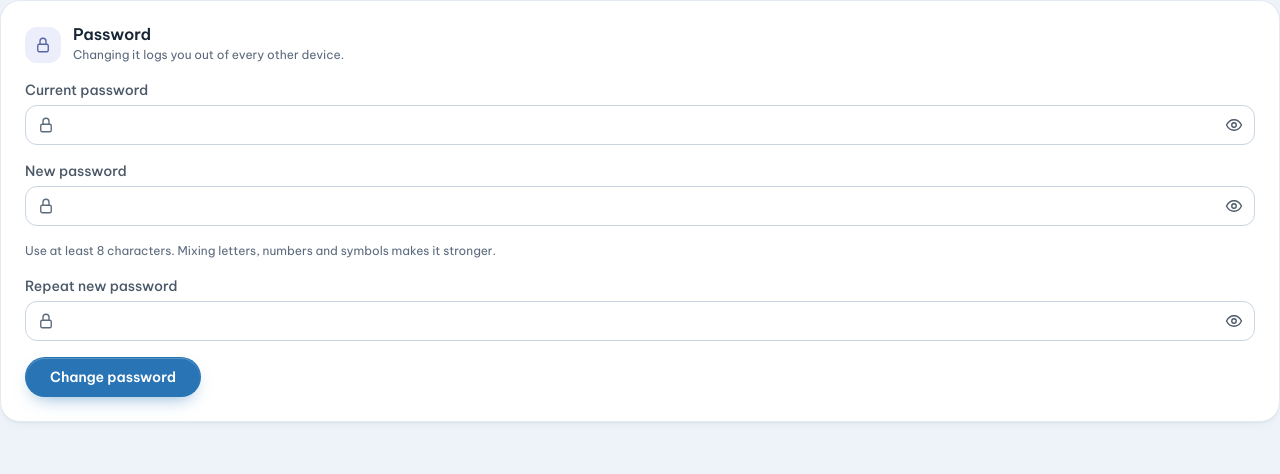
it: PasswordSection › shows the strength of the new password as it is typed
The image size is (1280, 474).
Type "abc" into the password field labelled "New password" at (640, 206), box [25,186,1255,226]
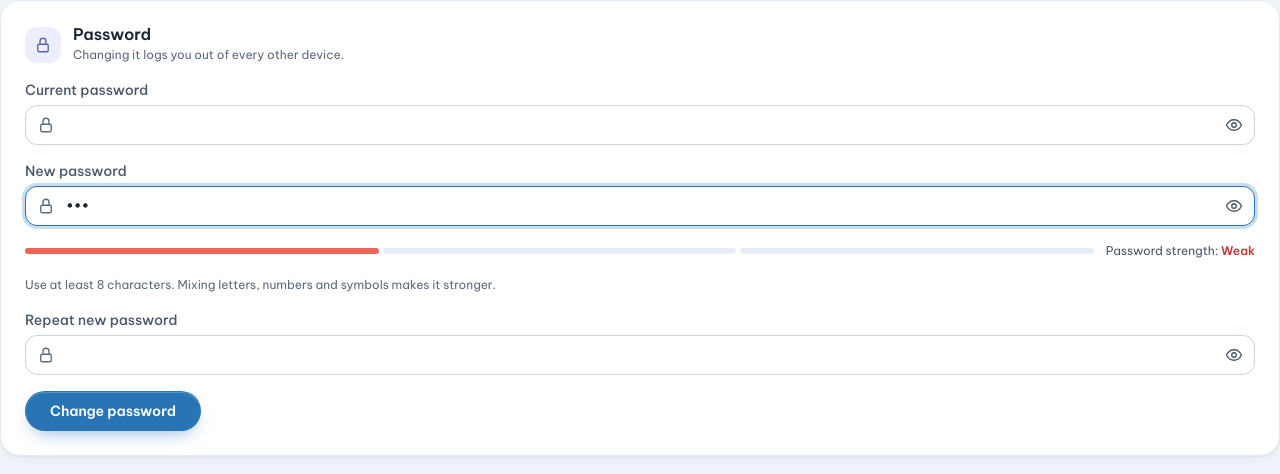
Expected: the message reads "Password strength: Weak", [1106,242,1255,260]
Type "Password1" into the password field labelled "New password" at (640, 206), box [25,186,1255,226]
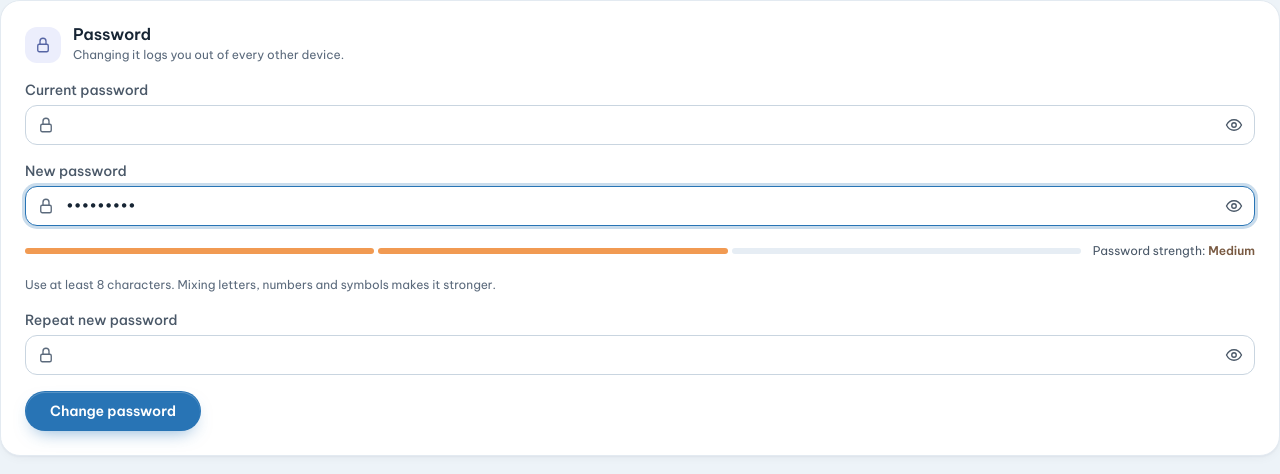
Expected: the message shows "Medium", [1208,243,1255,258]
Type "Password123!" into the password field labelled "New password" at (640, 206), box [25,186,1255,226]
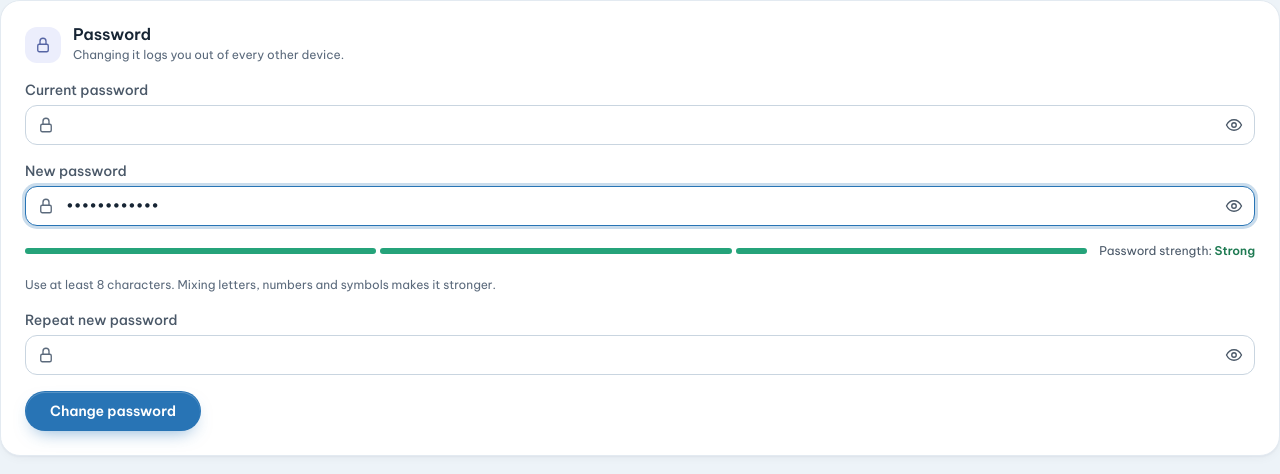
Expected: the message shows "Strong", [1215,243,1255,258]
